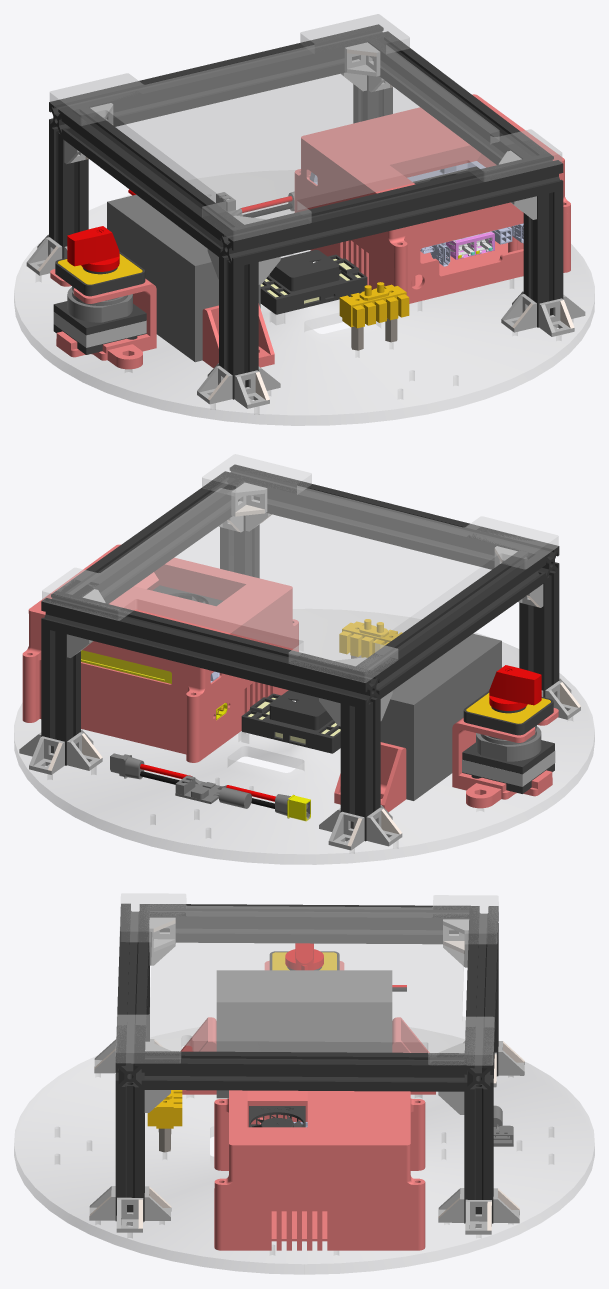
The model's file is 4_f_acry.glb.
3 renders of one model, top to bottom at view 1: azimuth 30°, elevation 25°; view 2: azimuth 150°, elevation 25°; view 3: azimuth 270°, elevation 25°, orthographic.
Visible parts, largest first — view 1: topCover_plate_acry-3 - Part_clonedChild, topCover_plate_acry-3 - Part, alpha3_electronics_plate-1 - Part_clonedChild, alpha3_electronics_plate-1 - Part, jetson_housing_top_V2-1 - Part, RS_850-8476_260mm-2 - Part, RS_850-8476_260mm-1 - Part, battery_foxtech-1 - Part, jetson_housing_bot-1 - Part, RS_850-8476_220mm-1 - Part, RS_850-8476_220mm-3 - Part, PIXHAWK 6X MINI-1 - Part (+20 smaller); view 2: topCover_plate_acry-3 - Part_clonedChild, topCover_plate_acry-3 - Part, alpha3_electronics_plate-1 - Part_clonedChild, alpha3_electronics_plate-1 - Part, RS_850-8476_260mm-1 - Part, jetson_housing_top_V2-1 - Part, jetson_housing_bot-1 - Part, RS_850-8476_260mm-2 - Part, battery_foxtech-1 - Part, RS_850-8476_220mm-1 - Part, RS_850-8476_220mm-3 - Part, RS_850-8476-1 2 - Part (+21 smaller); view 3: topCover_plate_acry-3 - Part_clonedChild, topCover_plate_acry-3 - Part, alpha3_electronics_plate-1 - Part_clonedChild, alpha3_electronics_plate-1 - Part, jetson_housing_top_V2-1 - Part, jetson_housing_bot-1 - Part, battery_foxtech-1 - Part, RS_850-8476_220mm-3 - Part, RS_850-8476_220mm-1 - Part, RS_850-8476_260mm-1 - Part, RS_850-8476_260mm-2 - Part, RS_850-8476-1 - Part (+18 smaller).
Boxes of the visible parts, x1,y1,x2,y2 form: topCover_plate_acry-3 - Part_clonedChild: [50, 14, 561, 240]; topCover_plate_acry-3 - Part: [50, 14, 561, 236]; alpha3_electronics_plate-1 - Part_clonedChild: [14, 195, 594, 425]; alpha3_electronics_plate-1 - Part: [14, 195, 594, 425]; jetson_housing_top_V2-1 - Part: [294, 94, 570, 253]; RS_850-8476_260mm-2 - Part: [219, 153, 563, 267]; RS_850-8476_260mm-1 - Part: [49, 24, 392, 138]; battery_foxtech-1 - Part: [107, 194, 260, 362]; jetson_housing_bot-1 - Part: [294, 175, 570, 303]; RS_850-8476_220mm-1 - Part: [63, 107, 243, 256]; RS_850-8476_220mm-3 - Part: [367, 35, 548, 164]; PIXHAWK 6X MINI-1 - Part: [260, 250, 367, 314]; topCover_plate_acry-3 - Part_clonedChild: [42, 454, 558, 682]; topCover_plate_acry-3 - Part: [42, 454, 557, 678]; alpha3_electronics_plate-1 - Part_clonedChild: [14, 633, 594, 864]; alpha3_electronics_plate-1 - Part: [14, 633, 594, 864]; RS_850-8476_260mm-1 - Part: [41, 591, 380, 709]; jetson_housing_top_V2-1 - Part: [22, 544, 298, 703]; jetson_housing_bot-1 - Part: [22, 629, 298, 762]; RS_850-8476_260mm-2 - Part: [220, 464, 559, 582]; battery_foxtech-1 - Part: [380, 633, 501, 800]; RS_850-8476_220mm-1 - Part: [356, 550, 544, 698]; RS_850-8476_220mm-3 - Part: [56, 475, 244, 603]; RS_850-8476-1 2 - Part: [340, 699, 380, 841]; topCover_plate_acry-3 - Part_clonedChild: [116, 893, 498, 1065]; topCover_plate_acry-3 - Part: [116, 894, 497, 1064]; alpha3_electronics_plate-1 - Part_clonedChild: [14, 1046, 594, 1274]; alpha3_electronics_plate-1 - Part: [14, 1046, 594, 1273]; jetson_housing_top_V2-1 - Part: [214, 1090, 425, 1191]; jetson_housing_bot-1 - Part: [214, 1101, 425, 1250]; battery_foxtech-1 - Part: [216, 970, 392, 1098]; RS_850-8476_220mm-3 - Part: [144, 1051, 464, 1091]; RS_850-8476_220mm-1 - Part: [149, 904, 469, 944]; RS_850-8476_260mm-1 - Part: [464, 905, 498, 1091]; RS_850-8476_260mm-2 - Part: [115, 903, 149, 1089]; RS_850-8476-1 - Part: [464, 1084, 493, 1223].
Bounding box in the file's own units: 0.4 × 0.136 × 0.3998.
233 materials, 2 textured.
